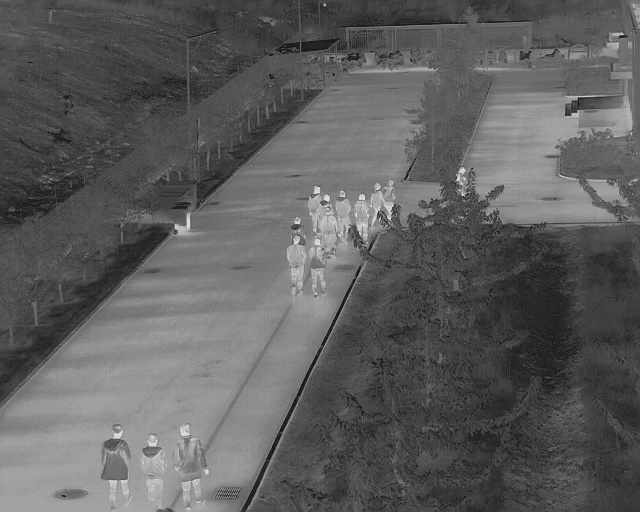person: (174, 422, 208, 511), (103, 425, 131, 509), (140, 433, 167, 511), (286, 234, 304, 293), (309, 238, 325, 297), (353, 193, 370, 240), (322, 209, 336, 260), (308, 184, 322, 231), (337, 191, 349, 243), (371, 182, 384, 224), (385, 179, 395, 215)
